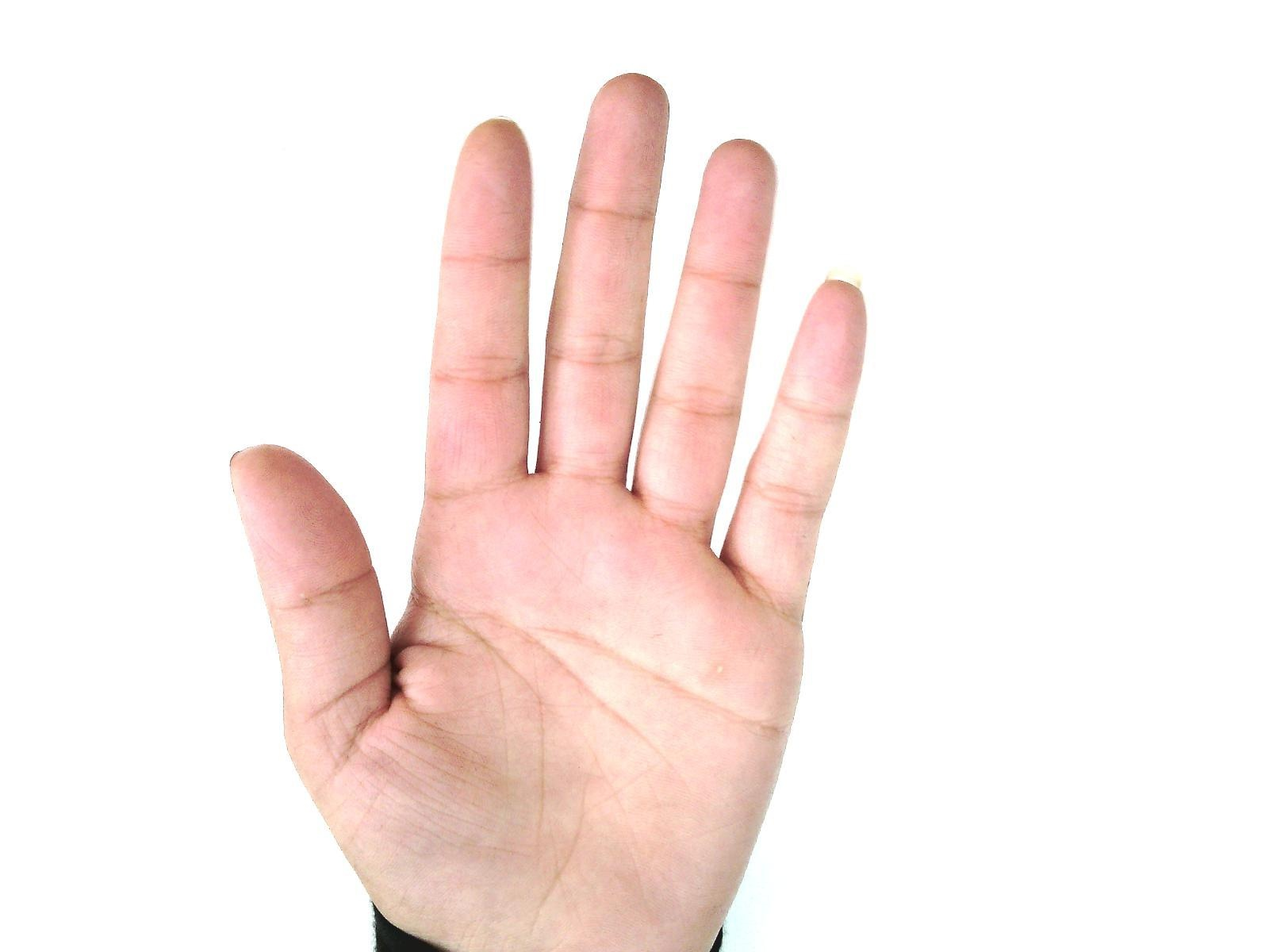open_palm: (228, 71, 871, 951)
